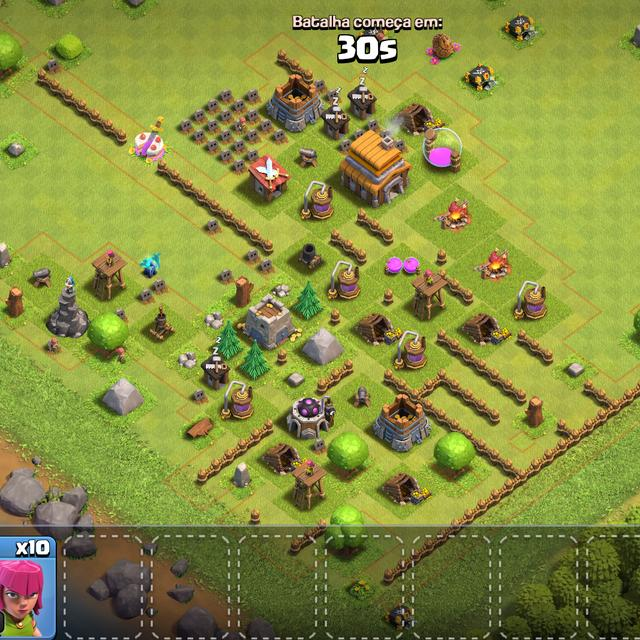Arqueira: (290, 460, 326, 510), (413, 267, 447, 319), (92, 250, 126, 300)
Canhao: (32, 265, 53, 288), (351, 384, 370, 408), (298, 147, 318, 168)
